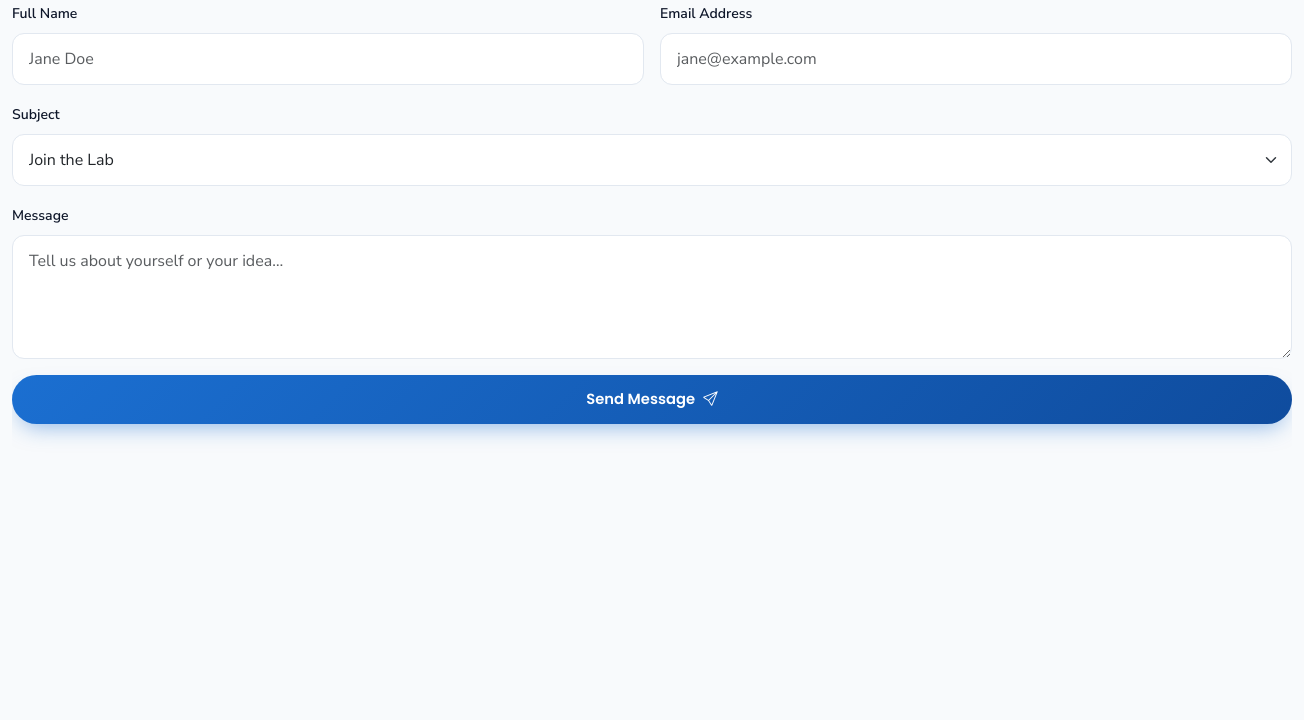
ContactForm › shows validation errors and does not call the API when empty
Click the button "Send Message" at (652, 399), box x1=12 y1=375 x2=1292 y2=424
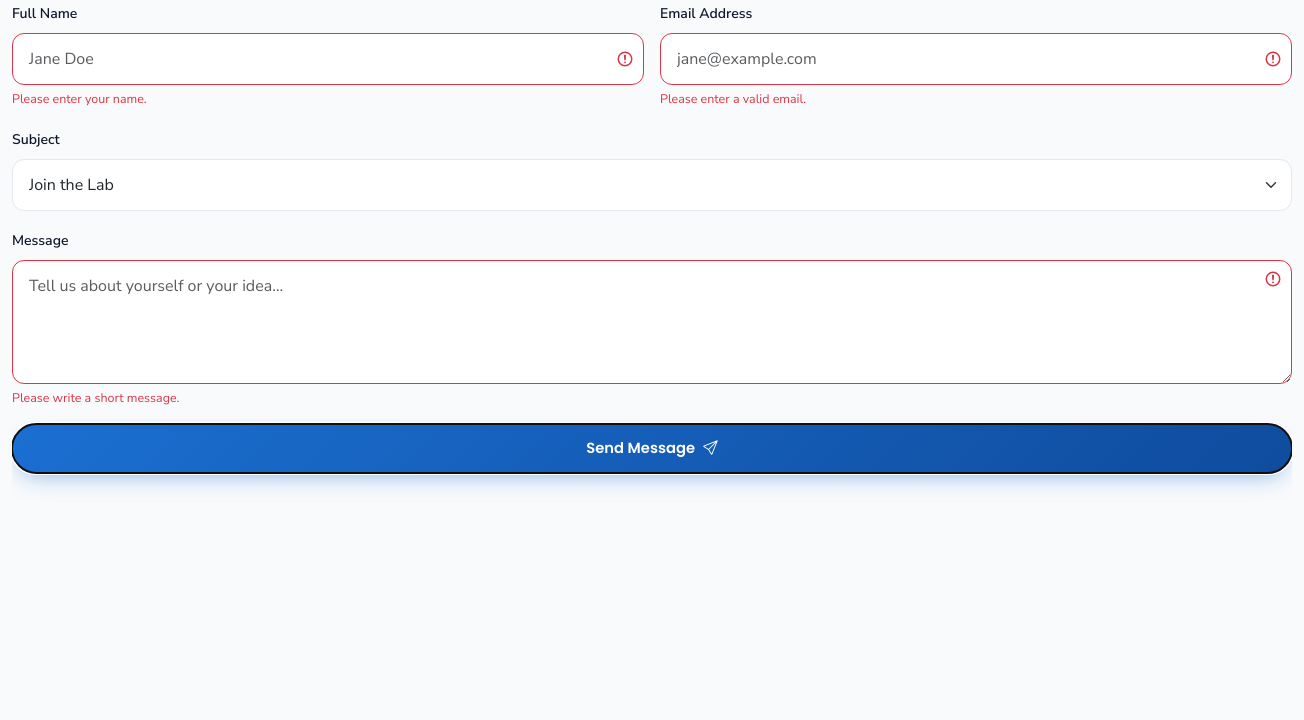
Expected: the text "Please enter your name." is shown, x1=12 y1=90 x2=147 y2=107
Expected: the text "Please enter a valid email." is shown, x1=660 y1=90 x2=806 y2=107
